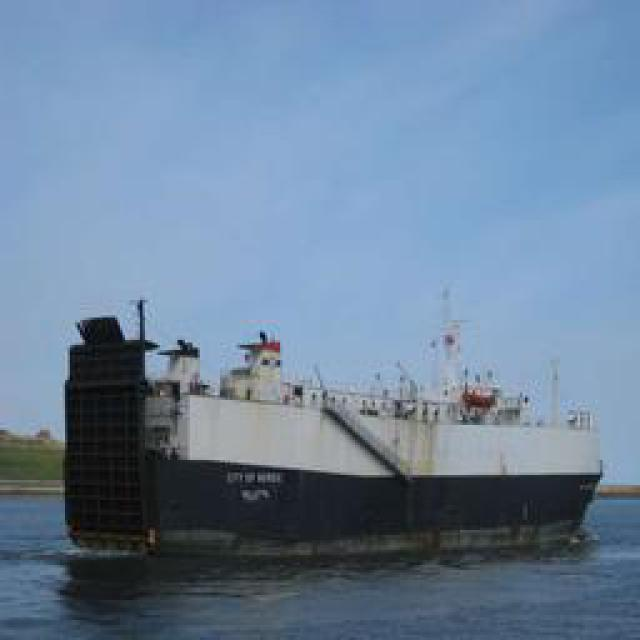Ship: (116, 284, 599, 549)
